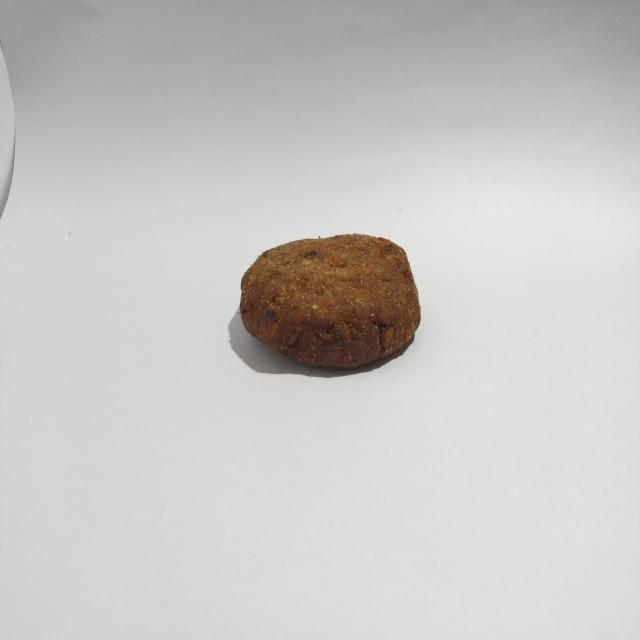Food: (229, 212, 432, 390)
